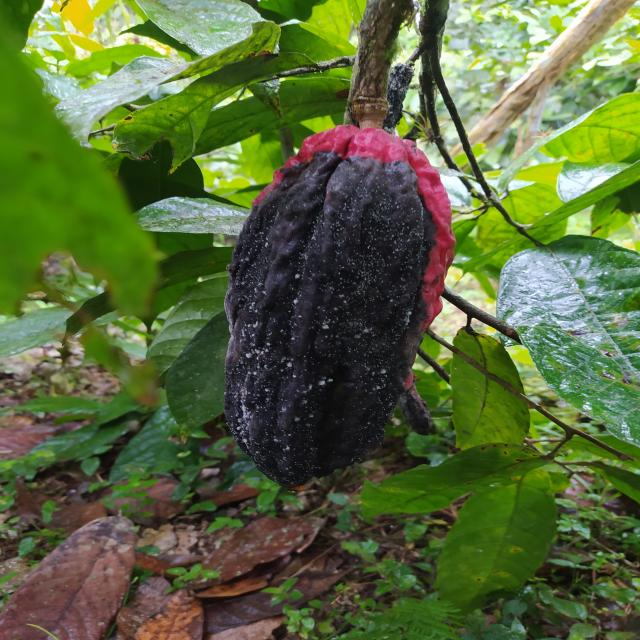Fitoftora: (220, 121, 456, 490)
